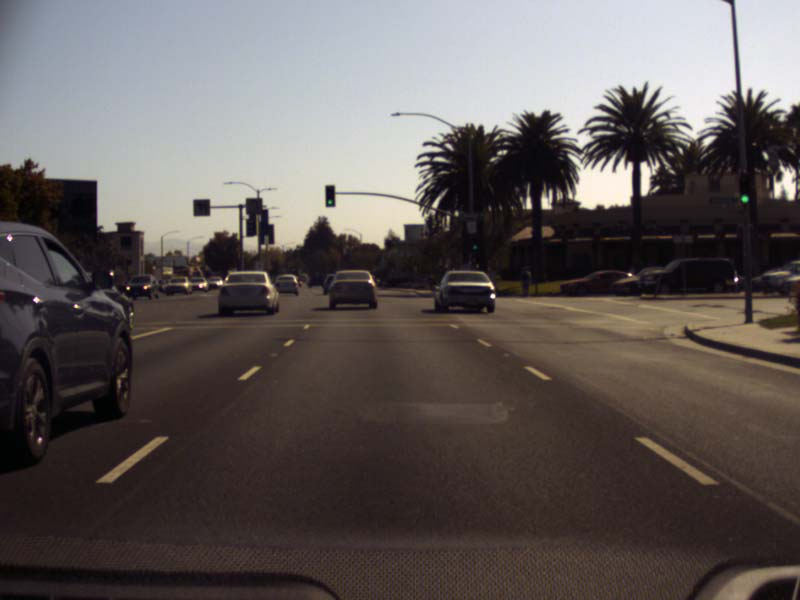Green: (738, 172, 750, 204), (325, 185, 334, 206), (471, 236, 478, 251)
